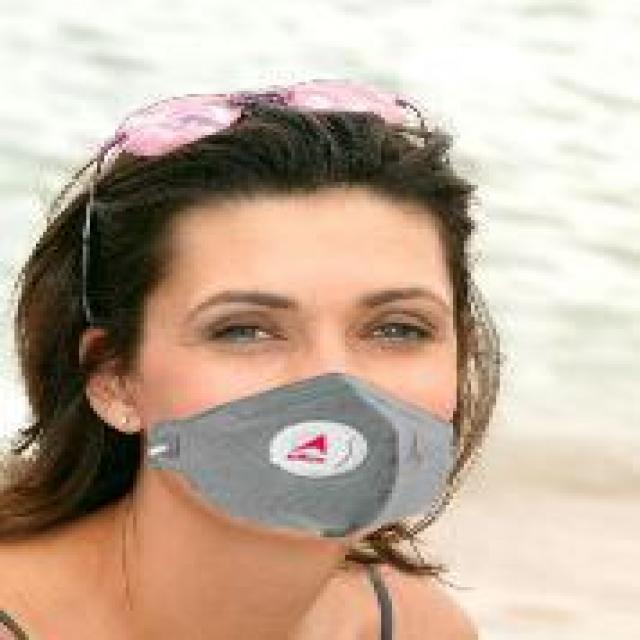mask: (36, 62, 507, 560)
